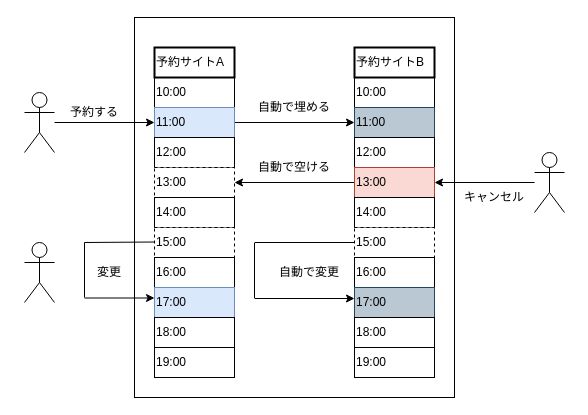
The diagram is 588 pixels wide and 415 high, and some of its shapes have lost their labels. The box of each missing label's shape, as (x1, y1, x2, y2) in pixels:
お客様X: (24, 92, 54, 152)
お客様Y: (534, 152, 564, 212)
お客様Z: (24, 242, 54, 302)
お店: (134, 16, 454, 398)
